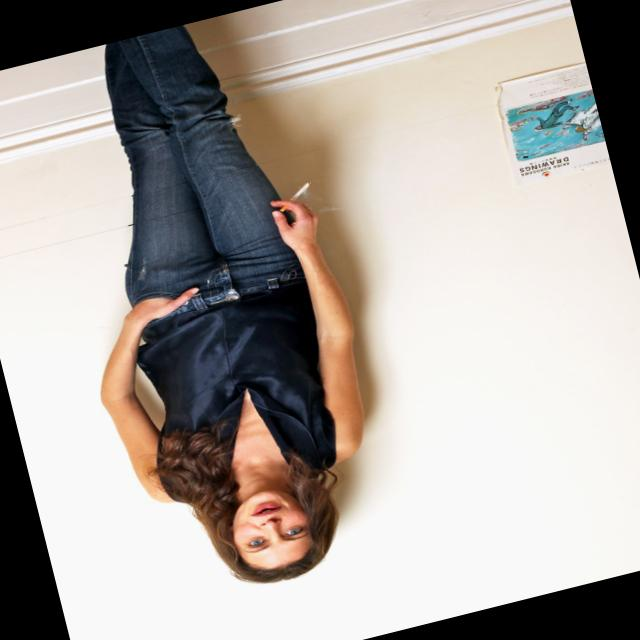cigarette: (270, 170, 323, 214)
